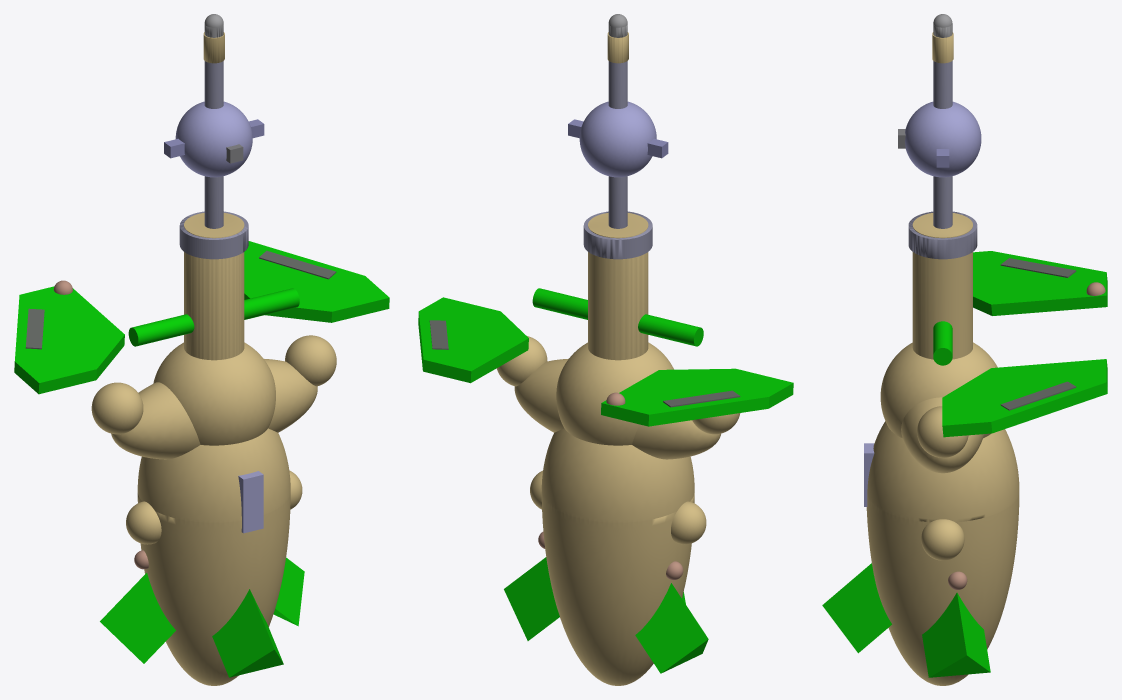
Rendered from hunter-seeker.glb.
3 views of the same model, side by side, from view 1: azimuth 30°, elevation 25°; view 2: azimuth 150°, elevation 25°; view 3: azimuth 270°, elevation 25° (orthographic).
Parts seen in each view (by area): view 1: body (×2), wing (×2), chest, fin (×3), neck, shoulder, star, lobe (×2), strut, mast, collar, slot (×2) (+3 smaller); view 2: body (×2), wing (×2), neck, chest, fin (×2), shoulder, star, strut, mast, lobe (×2), collar, lug (+2 smaller); view 3: body (×2), wing (×2), fin (×2), neck, chest, star, shoulder, mast, collar, lobe, lug, slot (×2) (+2 smaller).
Part boxes in pixels (x1,y1,x2,y2): body (×2): (137,428,290,685); wing (×2): (14,241,389,394); chest: (153,342,275,445); fin (×3): (100,557,304,677); neck: (184,213,244,360); shoulder: (111,359,317,459); star: (175,101,252,177); lobe (×2): (91,335,336,434); strut: (128,288,299,346); mast: (204,61,223,228); collar: (179,211,248,259); slot (×2): (25,250,336,349); body (×2): (541,428,694,685); wing (×2): (418,297,793,426); neck: (588,213,648,360); chest: (556,342,673,445); fin (×2): (504,557,708,673); shoulder: (514,358,720,459); star: (579,101,656,177); strut: (532,288,703,346); mast: (608,61,627,228); lobe (×2): (496,336,740,434); collar: (583,211,652,259); lug: (671,501,706,544); body (×2): (866,421,1019,685); wing (×2): (942,251,1107,437); fin (×2): (822,563,990,677); neck: (912,213,972,359); chest: (880,342,997,437); star: (905,101,981,177); shoulder: (901,397,984,473); mast: (933,61,952,228); collar: (908,211,977,259); lobe: (917,406,968,457); lug: (921,519,964,560); slot (×2): (1000,258,1076,410).
Bounding box in the file's own units: 0.6263 × 1.14 × 0.442.
